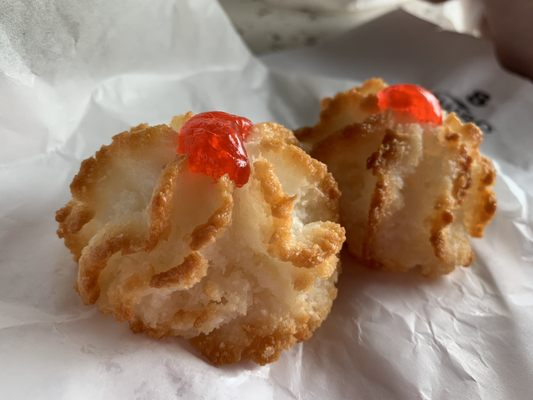salad: (61, 109, 347, 368), (294, 78, 499, 279)
